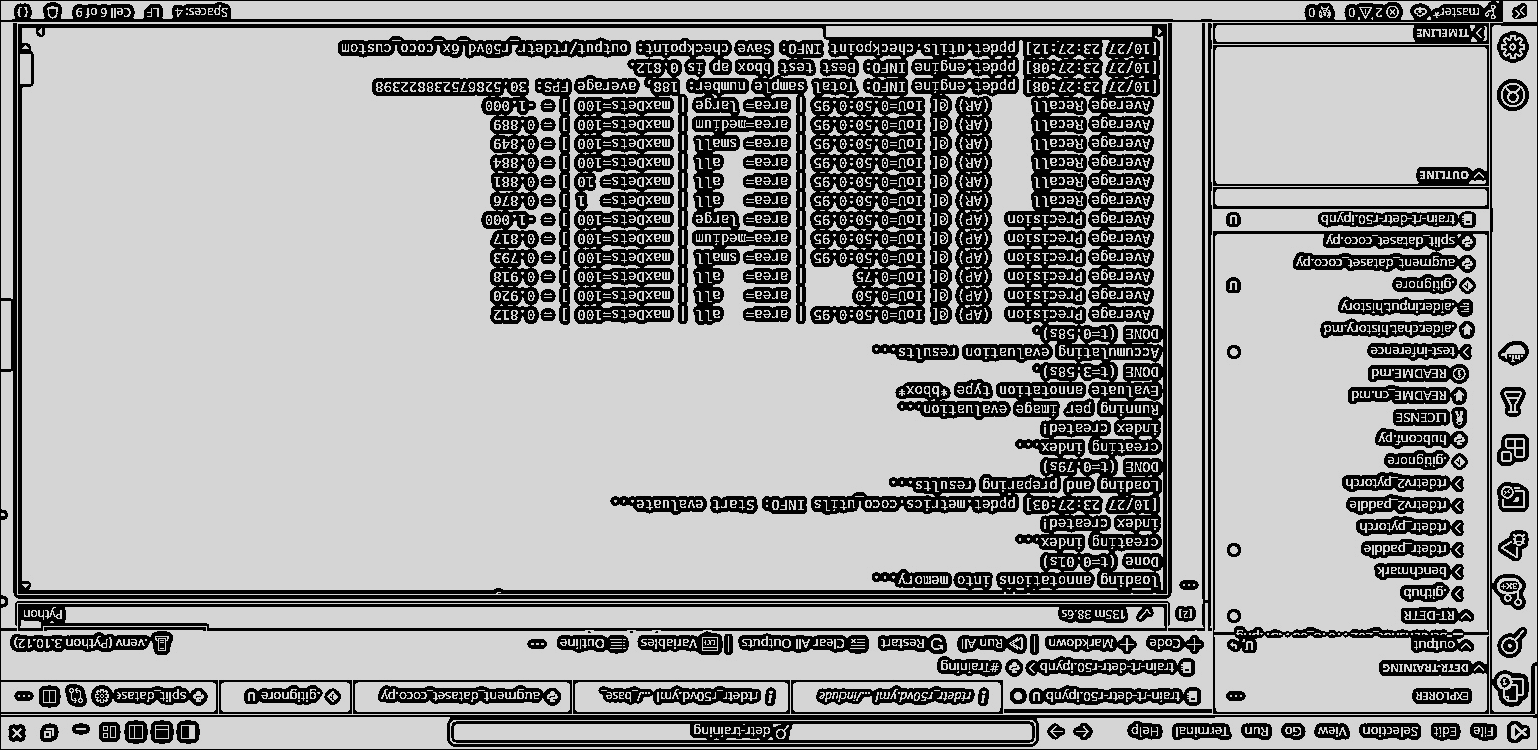Accounts: (1497, 74, 1533, 113)
Activity Bar: (1488, 21, 1537, 715)
Close: (8, 723, 35, 746)
Editor: (3, 20, 1213, 717)
Explorer: (1495, 673, 1534, 709)
Extensions: (1498, 432, 1533, 474)
Manage: (1496, 30, 1531, 65)
Maximize: (41, 725, 61, 745)
Minimize: (69, 723, 93, 745)
Primary Side Bar: (1209, 19, 1493, 718)
Run and Debug: (1499, 525, 1534, 566)
Search: (1499, 622, 1531, 667)
Search Bar: (445, 719, 1041, 746)
Source Control: (1497, 569, 1533, 614)
Status Bar: (3, 3, 1538, 25)
Testing: (1497, 387, 1531, 420)
Top Bar: (3, 713, 1537, 749)
